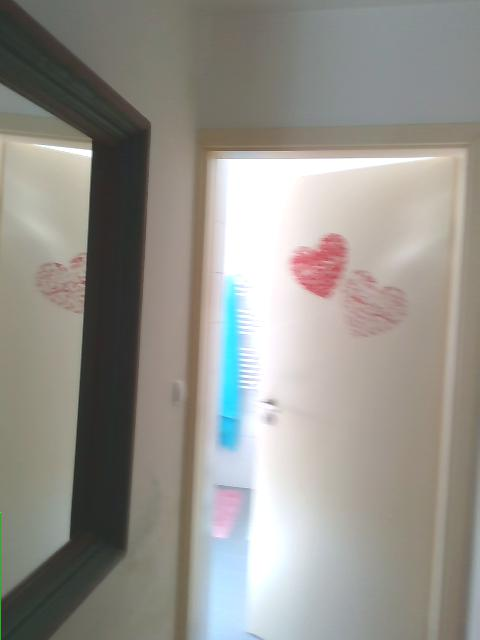semi_door: (176, 121, 479, 639)
